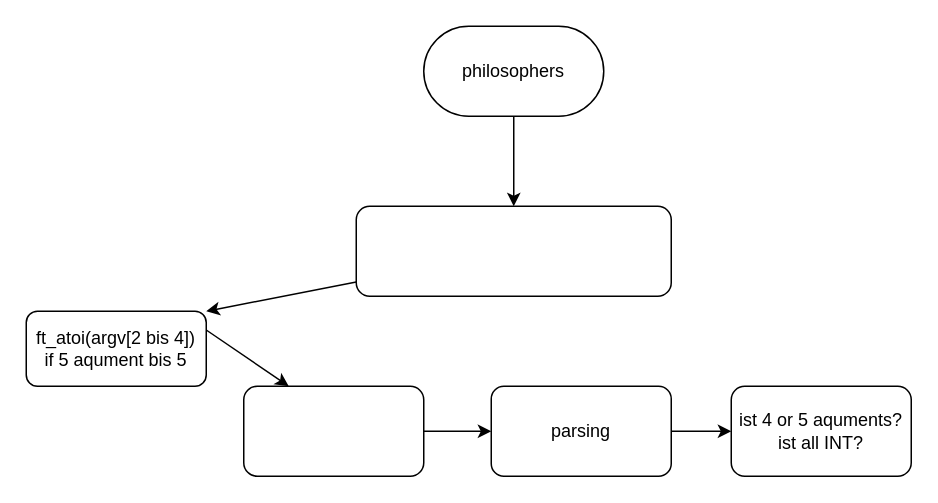
This 938x503 diagram has some shape labels left out. The centre of each missing label's shape, as x and y in pixels:
all Aquments saved: (x=333, y=430)
save_values(char **argv, t_env *env): (x=513, y=250)
